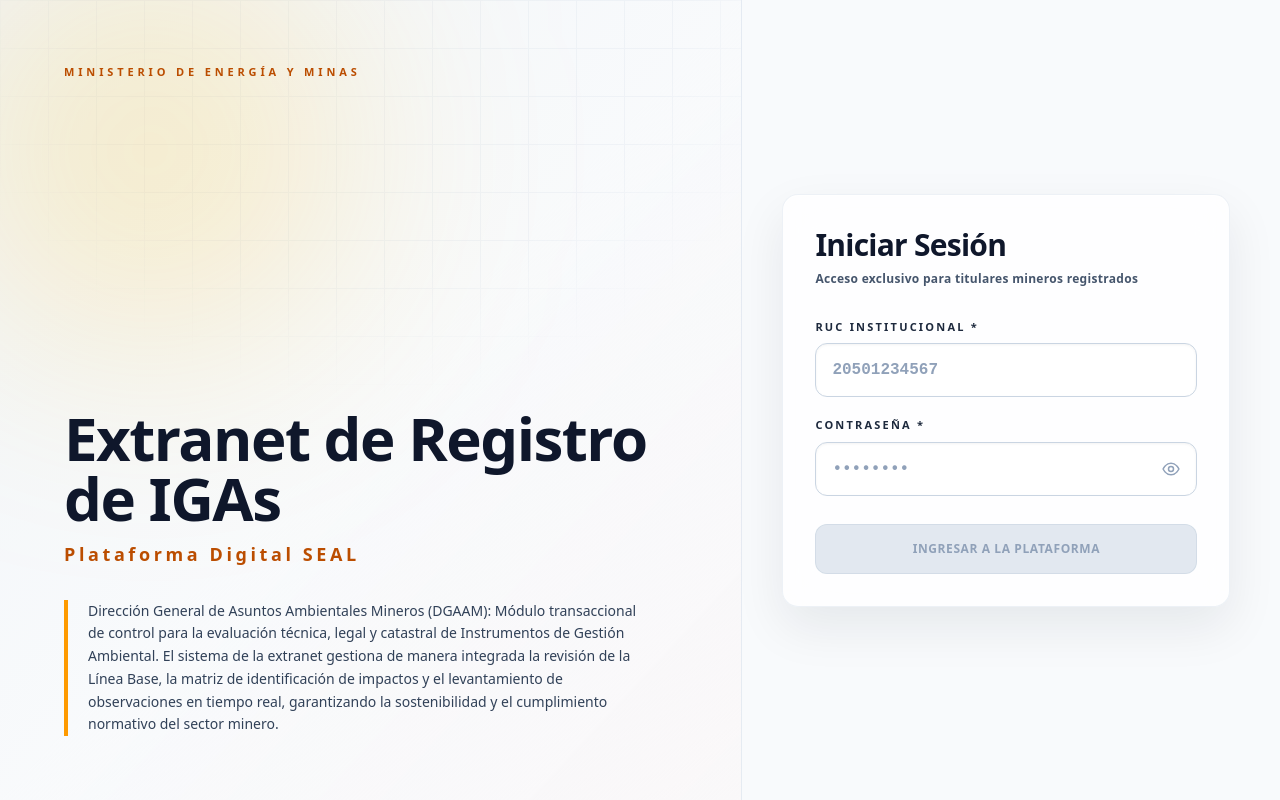
Test: LoginComponent › Asistencia dinámica del RUC › muestra el texto normativo tras un blur incompleto
Type "205012" into the field with id "ruc". click: (1006, 370)
box: left=815, top=343, right=1197, bottom=397
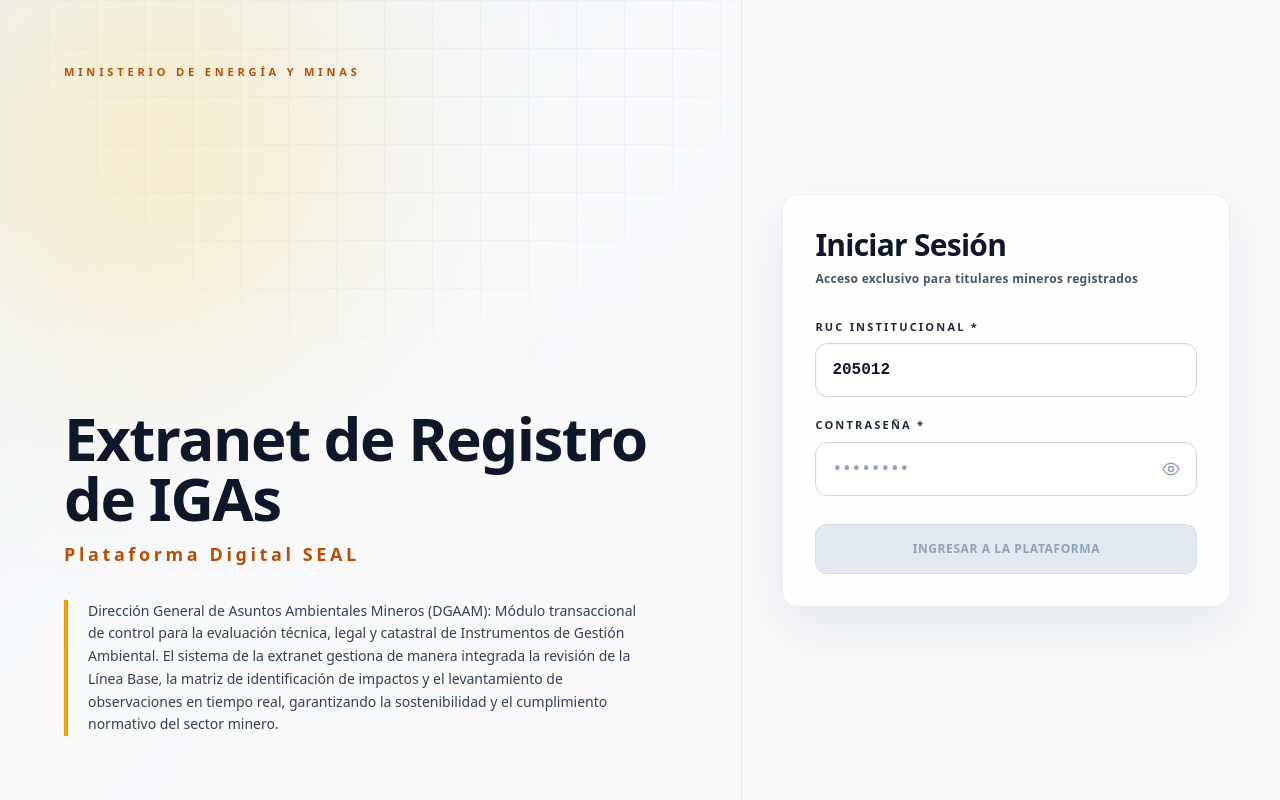
Leave the field with id "ruc", box left=815, top=343, right=1197, bottom=397
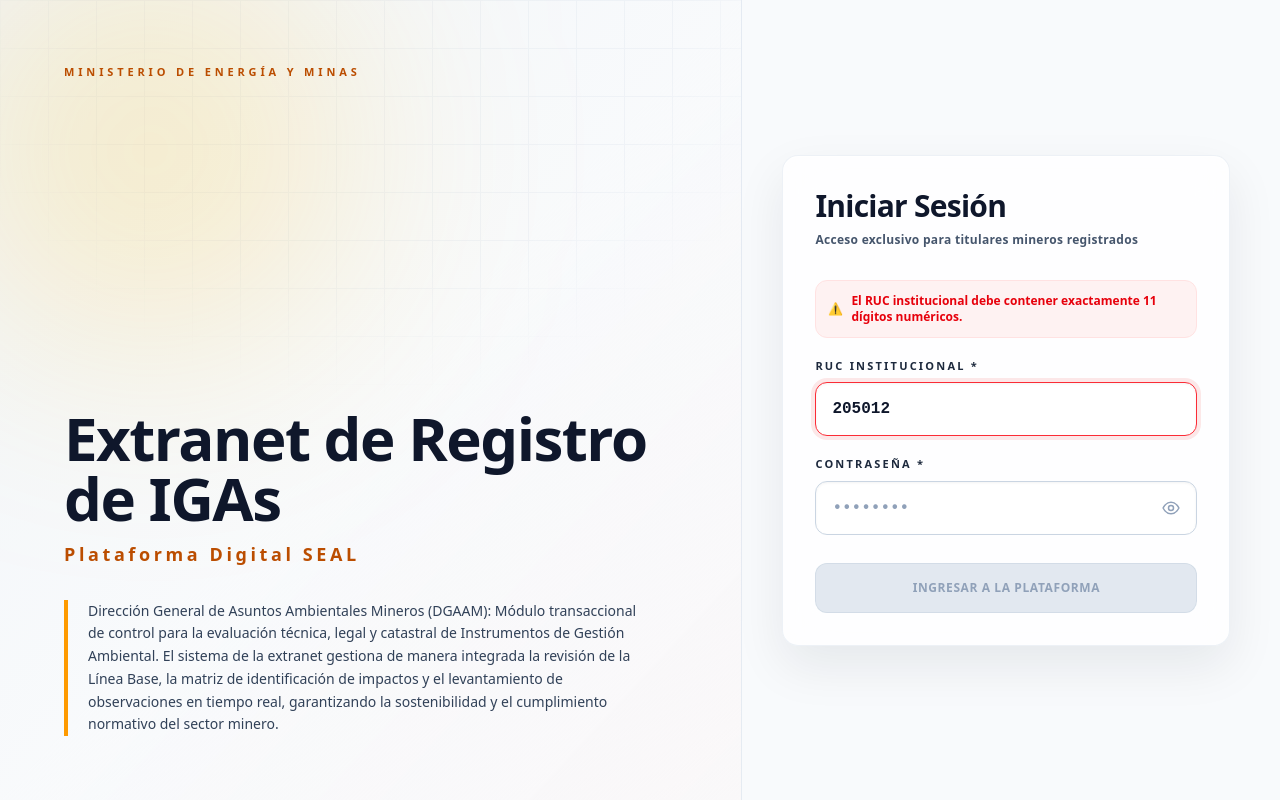
Result: the message "⚠️ El RUC institucional debe contener exactamente 11 dígitos numéricos." is shown at left=815, top=280, right=1197, bottom=338
